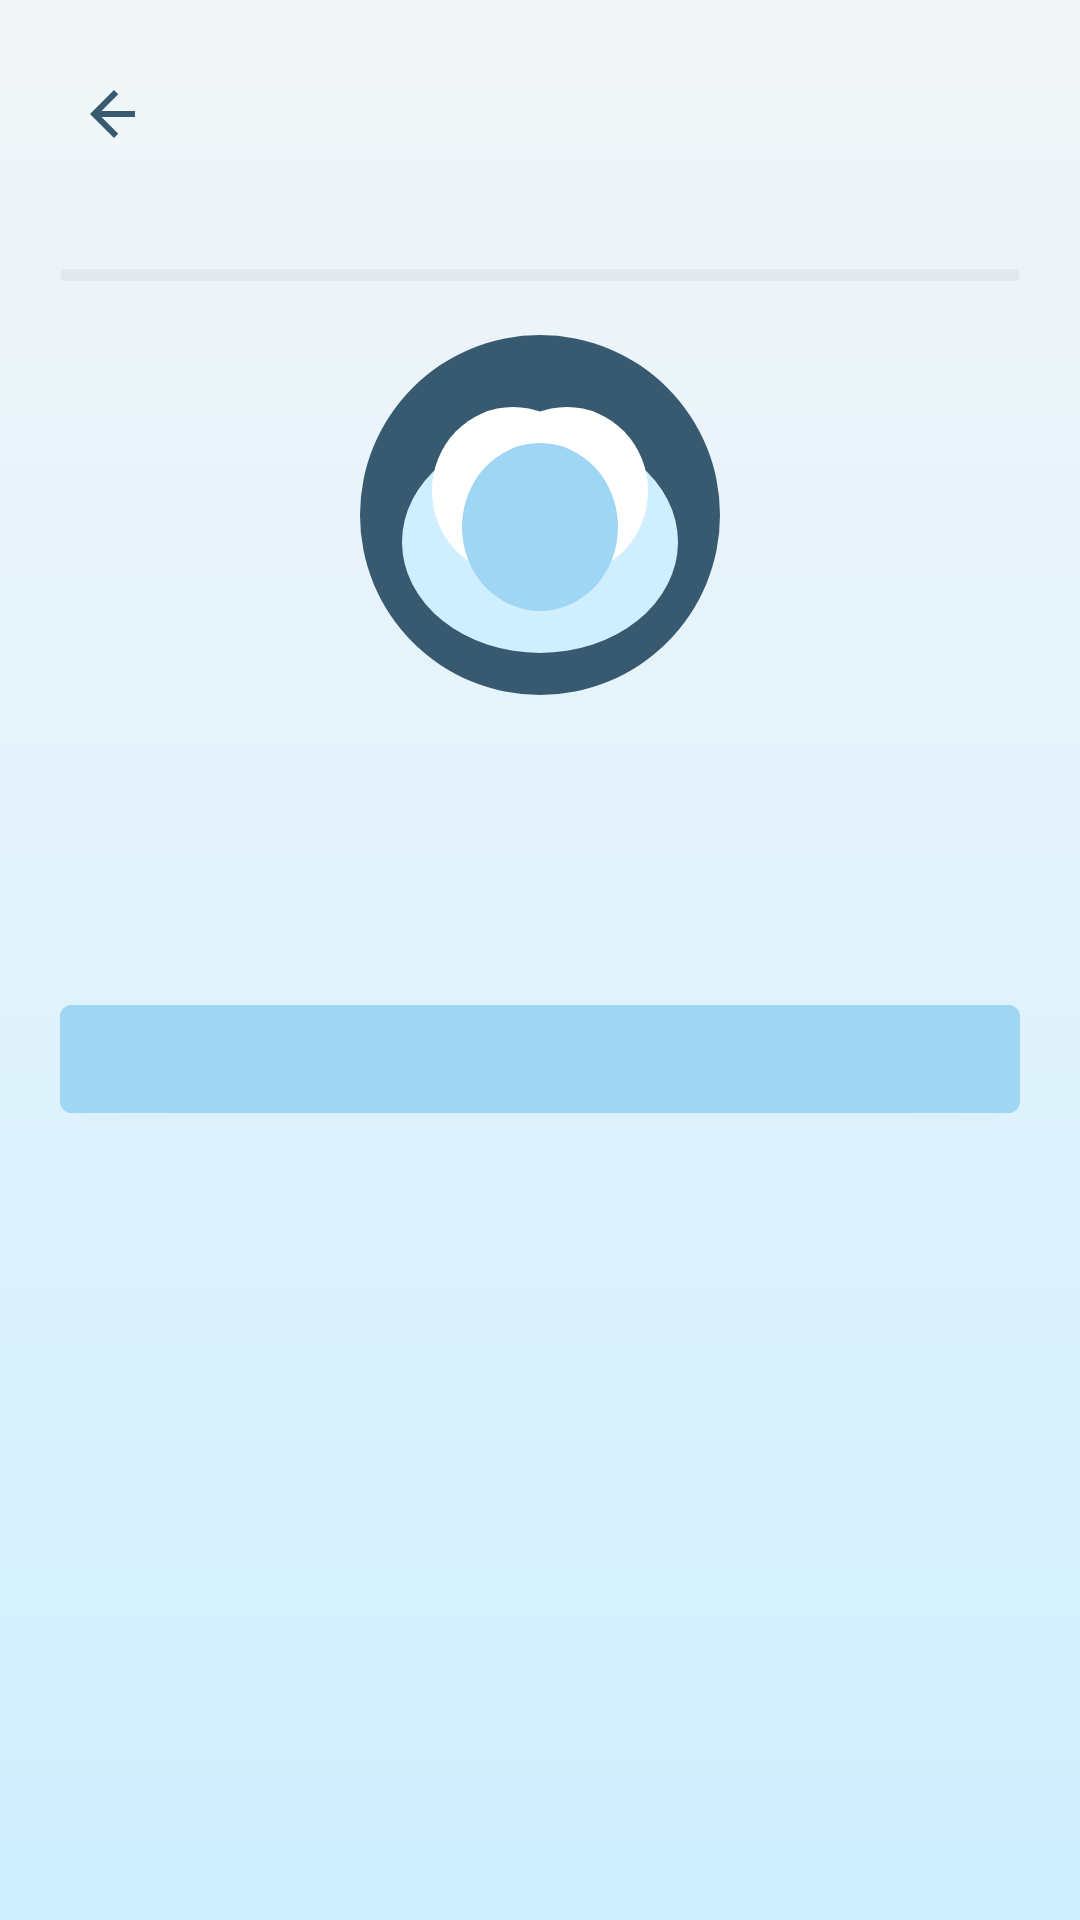

Where to tap for icons on this 1080 x 1920 app screen, as [x,y]:
Volver: [112,114]
